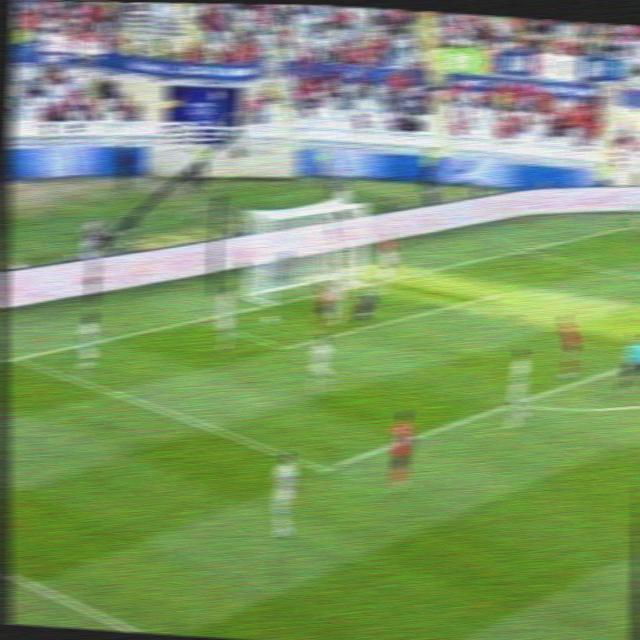bigarea_bottom_inner: (311, 454, 338, 480)
bigarea_bottom_outter: (6, 345, 31, 370)
bigarea_top_outter: (515, 241, 537, 257)
corner: (622, 215, 640, 231)
smallarea_bottom_inner: (273, 334, 297, 357)
smallarea_bottom_outter: (190, 309, 214, 329)
smallarea_top_inner: (483, 283, 511, 303)
smallarea_top_outter: (411, 264, 434, 282)
